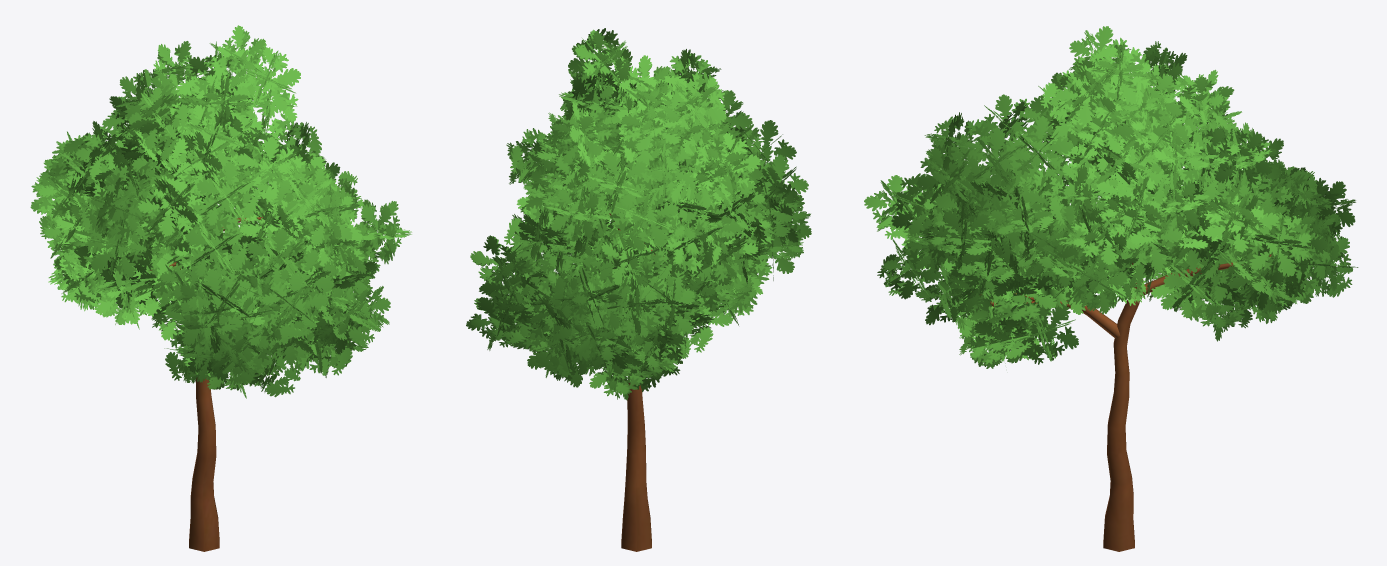
The model's file is st-oak-4.glb.
3 views of the same model, side by side, from view 1: azimuth 30°, elevation 25°; view 2: azimuth 150°, elevation 25°; view 3: azimuth 270°, elevation 25° (orthographic). The views are drawn at different scales.
Parts seen in each view (by area): view 1: STOak4; view 2: STOak4; view 3: STOak4.
Boxes of the visible parts, <box> form: STOak4: <box>30,25,411,551</box>; STOak4: <box>466,28,811,551</box>; STOak4: <box>864,26,1358,551</box>.
Size of the model in its own units: 12.14 by 22.47 by 20.
2 materials, 2 textured.
